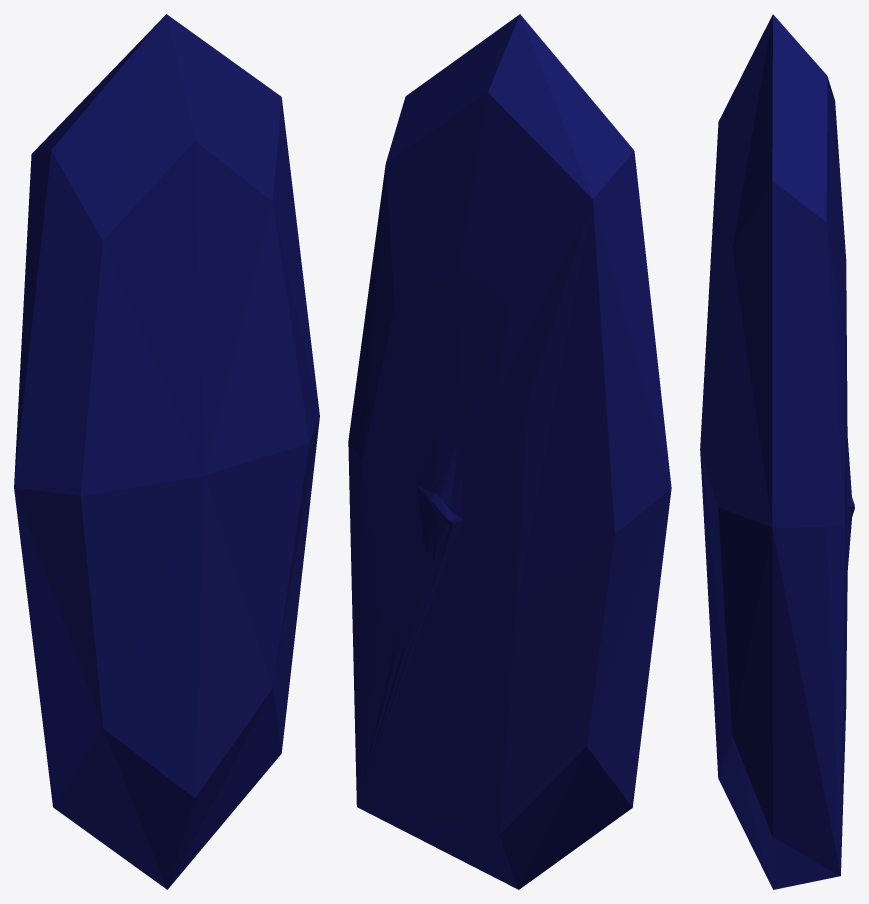
The picture shows the model from 3 angles, left to right: view 1: azimuth 30°, elevation 25°; view 2: azimuth 150°, elevation 25°; view 3: azimuth 270°, elevation 25°; orthographic projection.
Parts seen in each view (by area): view 1: 642_Cube.2584; view 2: 642_Cube.2584; view 3: 642_Cube.2584.
Part boxes in pixels (x1,y1,x2,y2): 642_Cube.2584: (14,14,319,889); 642_Cube.2584: (348,14,671,889); 642_Cube.2584: (700,14,854,889).
Bounding box in the file's own units: 4.35 × 11.93 × 1.91.
